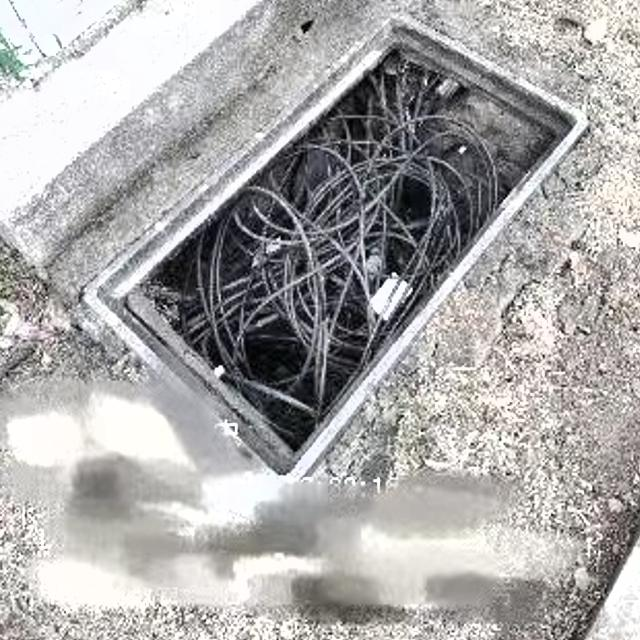lose: (61, 0, 596, 490)
